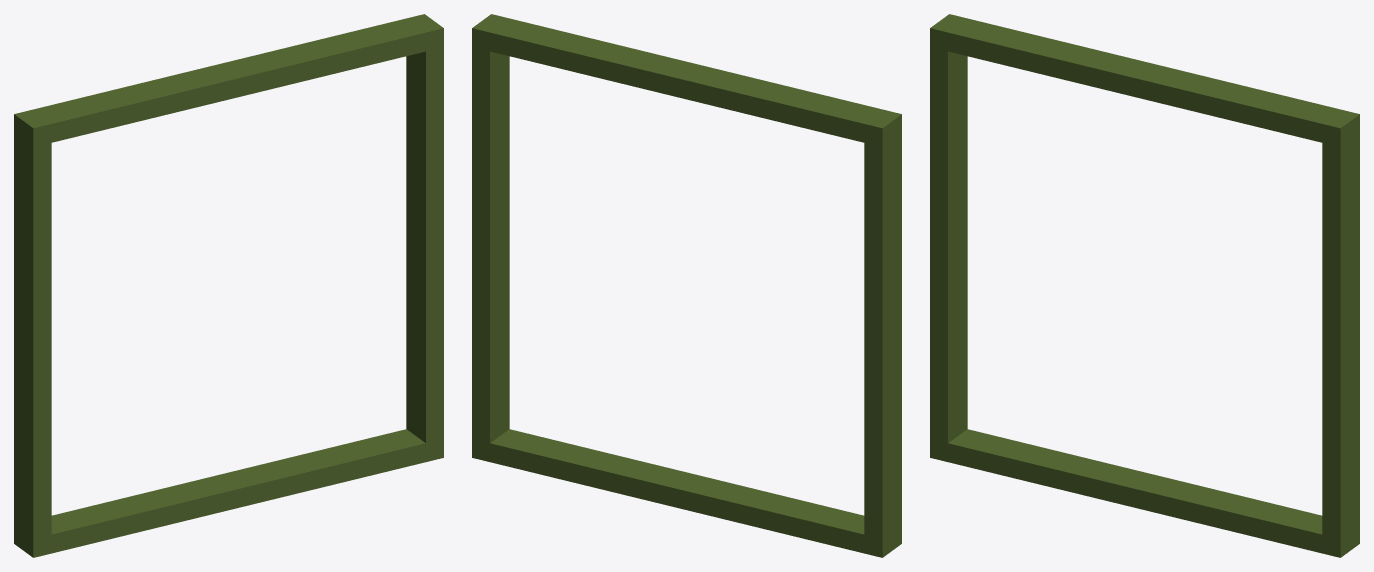
The model's file is frame.glb.
3 renders of one model, left to right at view 1: azimuth 30°, elevation 25°; view 2: azimuth 150°, elevation 25°; view 3: azimuth 330°, elevation 25°, orthographic.
Parts seen in each view (by area): view 1: Cube.014; view 2: Cube.014; view 3: Cube.014.
Boxes of the visible parts, x1=… form: Cube.014: x1=14, y1=14, x2=443, y2=557; Cube.014: x1=472, y1=14, x2=901, y2=557; Cube.014: x1=930, y1=14, x2=1359, y2=557.
Size of the model in its own units: 0.7693 by 0.7693 by 0.0629.
Materials: 1 (1 with a texture image).
